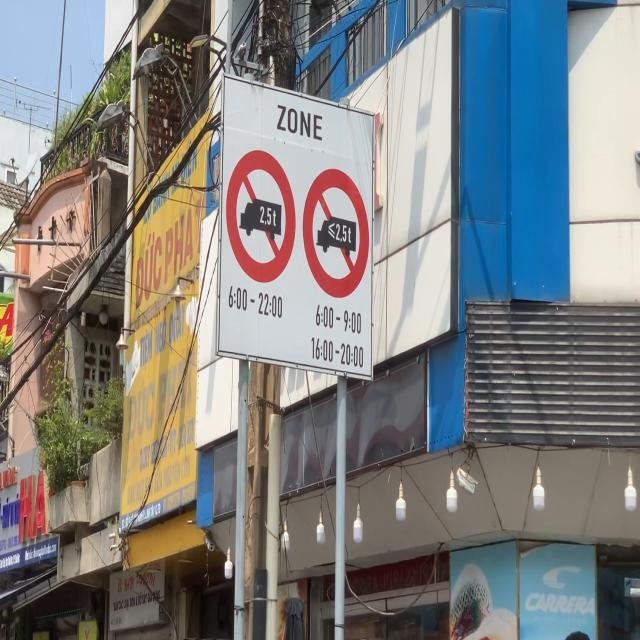bien_cam: (226, 148, 296, 284), (302, 168, 370, 299)
